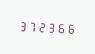seven: (27, 18, 36, 33)
six: (58, 20, 67, 35), (68, 21, 77, 35)
three: (17, 18, 26, 32), (48, 20, 57, 34)
two: (38, 19, 47, 33)
